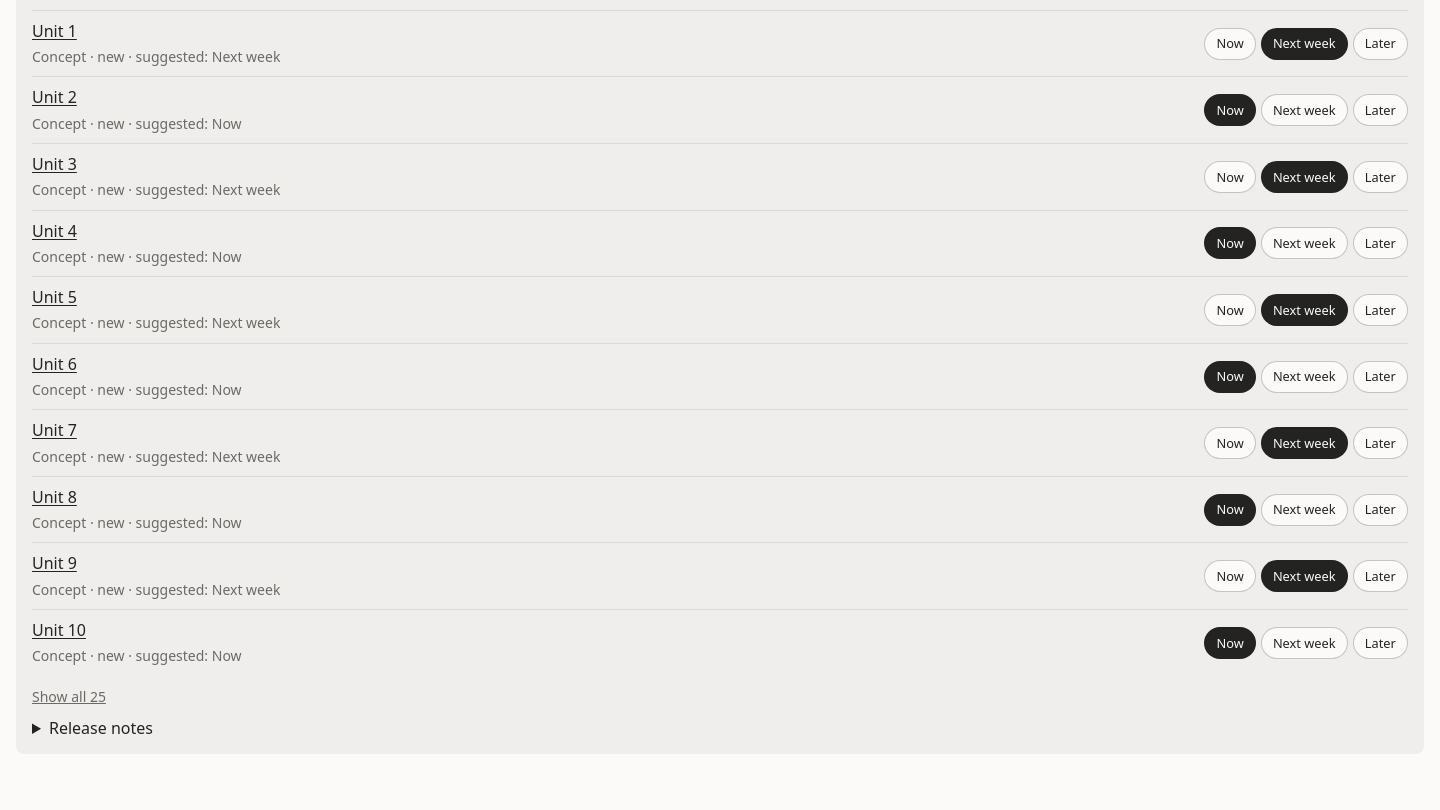
Test: shows the first ten new units and the rest on request
(page scrolled)
Check: the link "Unit 11" is not shown
Click the button "Show all 25": x=69, y=697 [32,686,106,708]
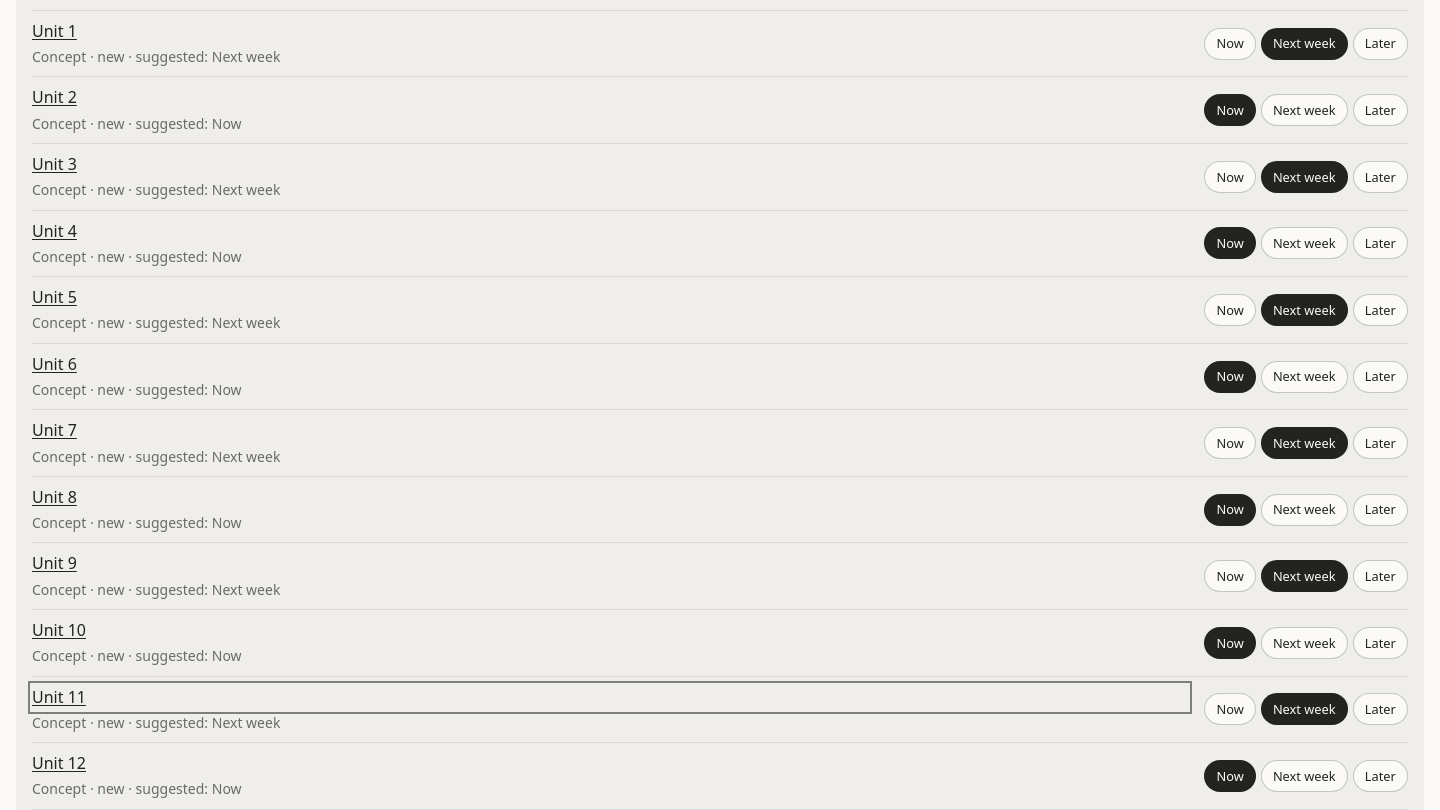
Check: the button "Show all" is gone
